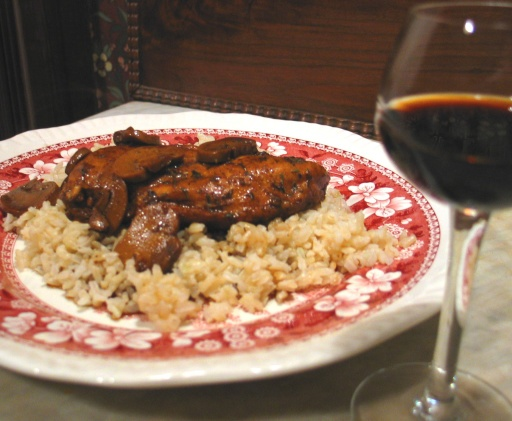background: (0, 83, 334, 218), (108, 61, 409, 139)
